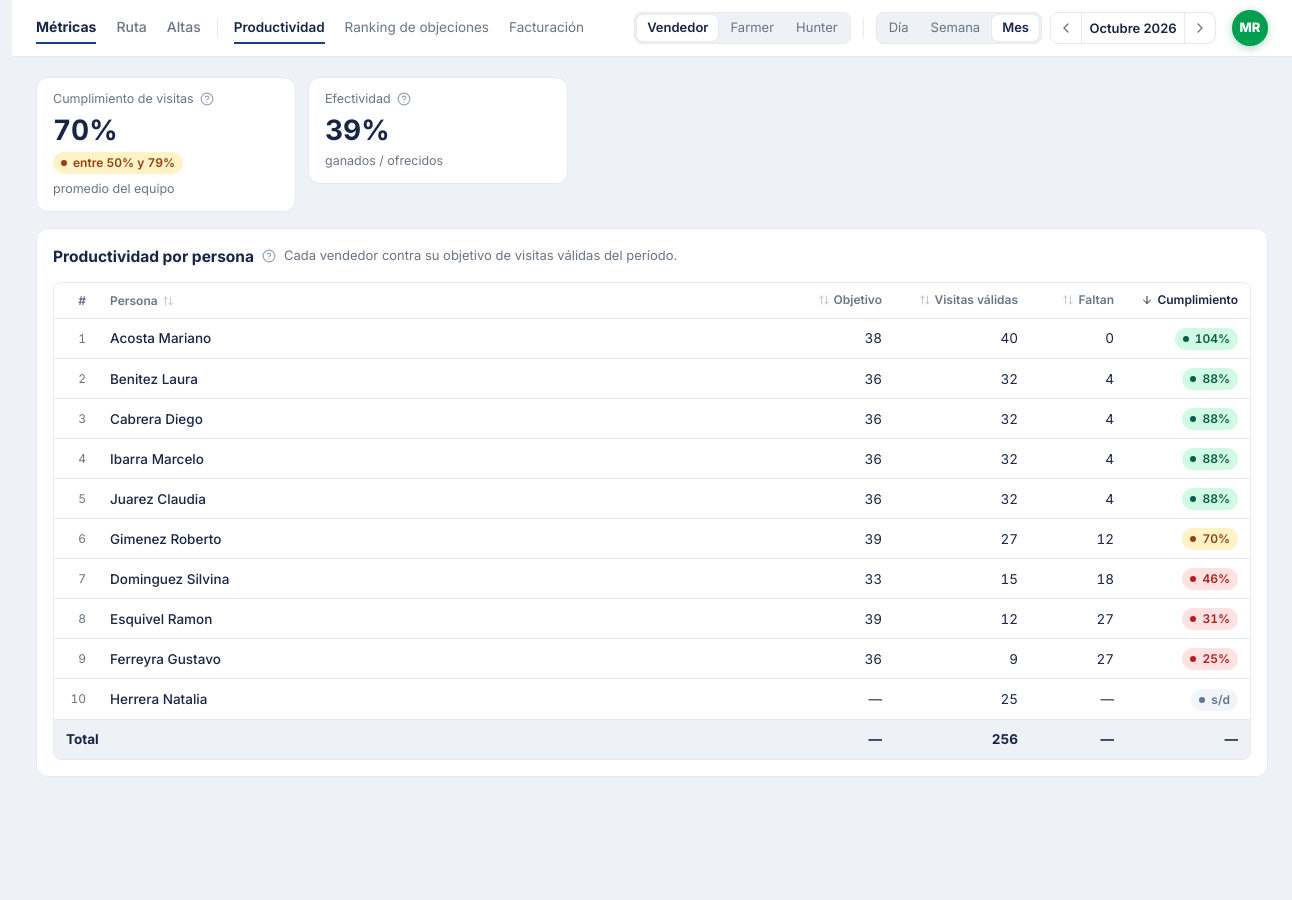
Test case: Productividad con el estándar UI › la vista y el tipo quedan en la URL; los valores por defecto no se escriben
Check: the row with test id "fila-productividad-V1" is shown, box [54,319,1250,359]
Step 1. Click the button "Hunter" → (817,28), box [786,15,848,41]
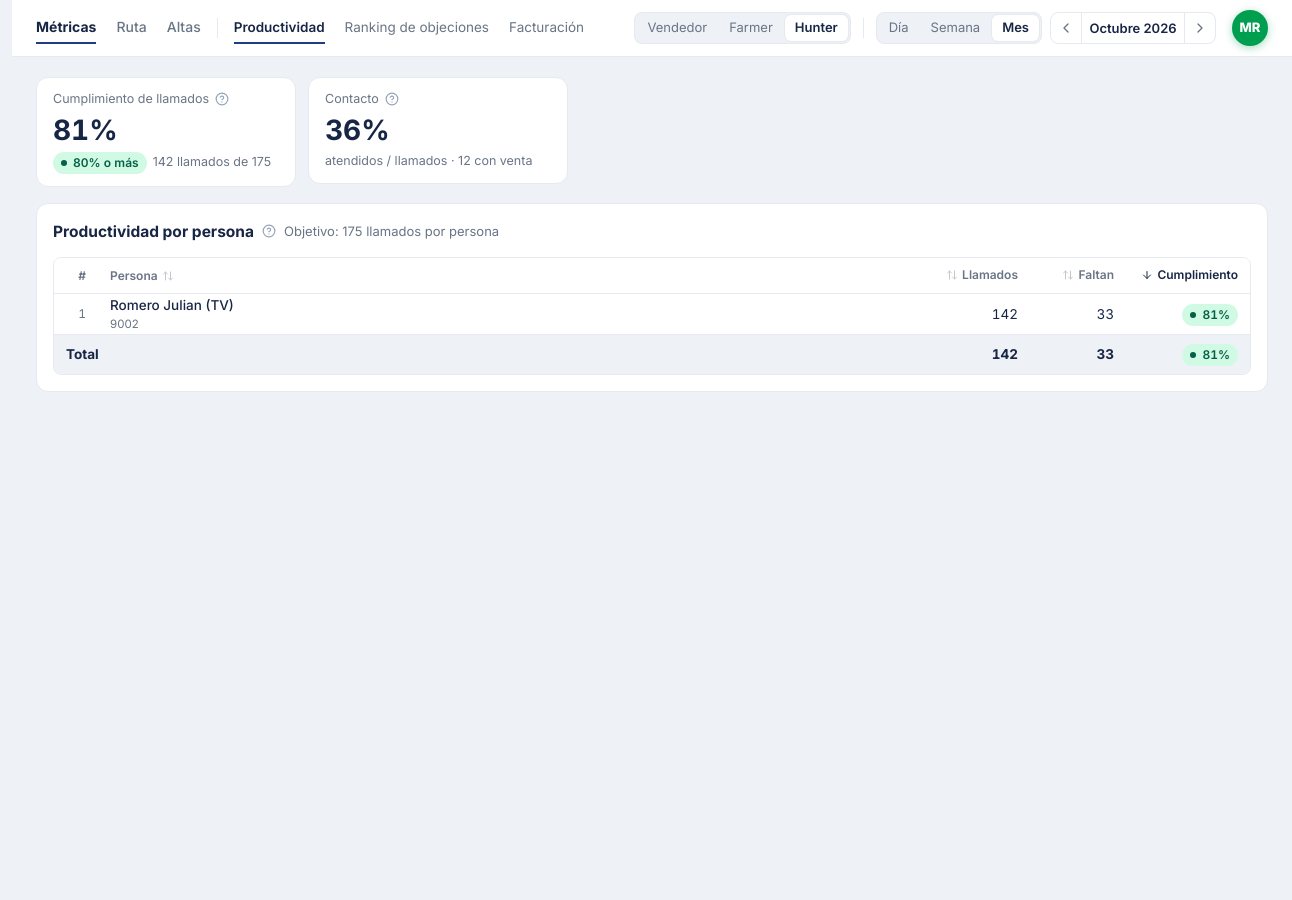
Step 2. Click the button "Ranking de objeciones" → (417,28), box [345,12,489,44]
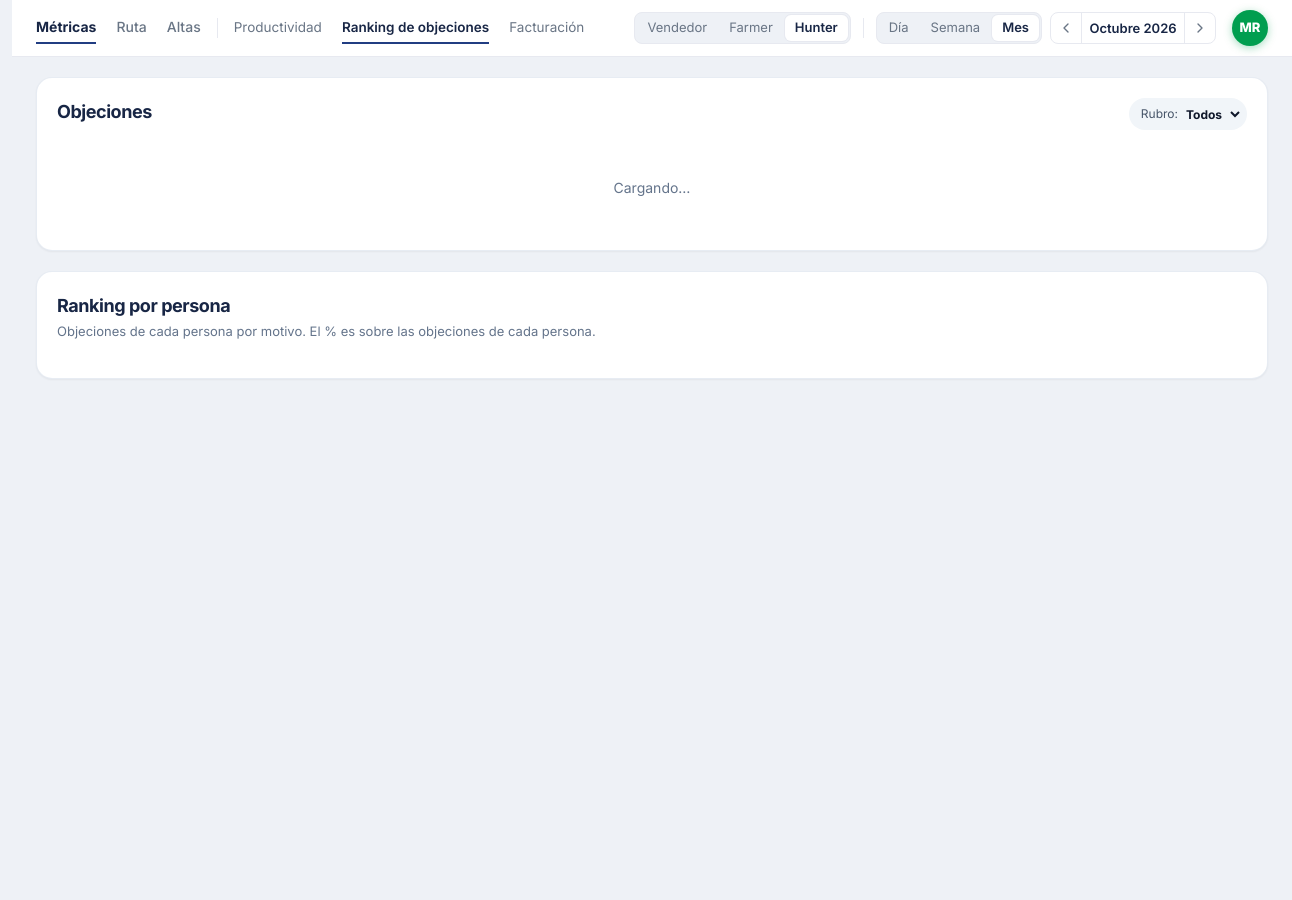
Step 3. Click the button "Productividad" → (278,28), box [234,12,322,44]
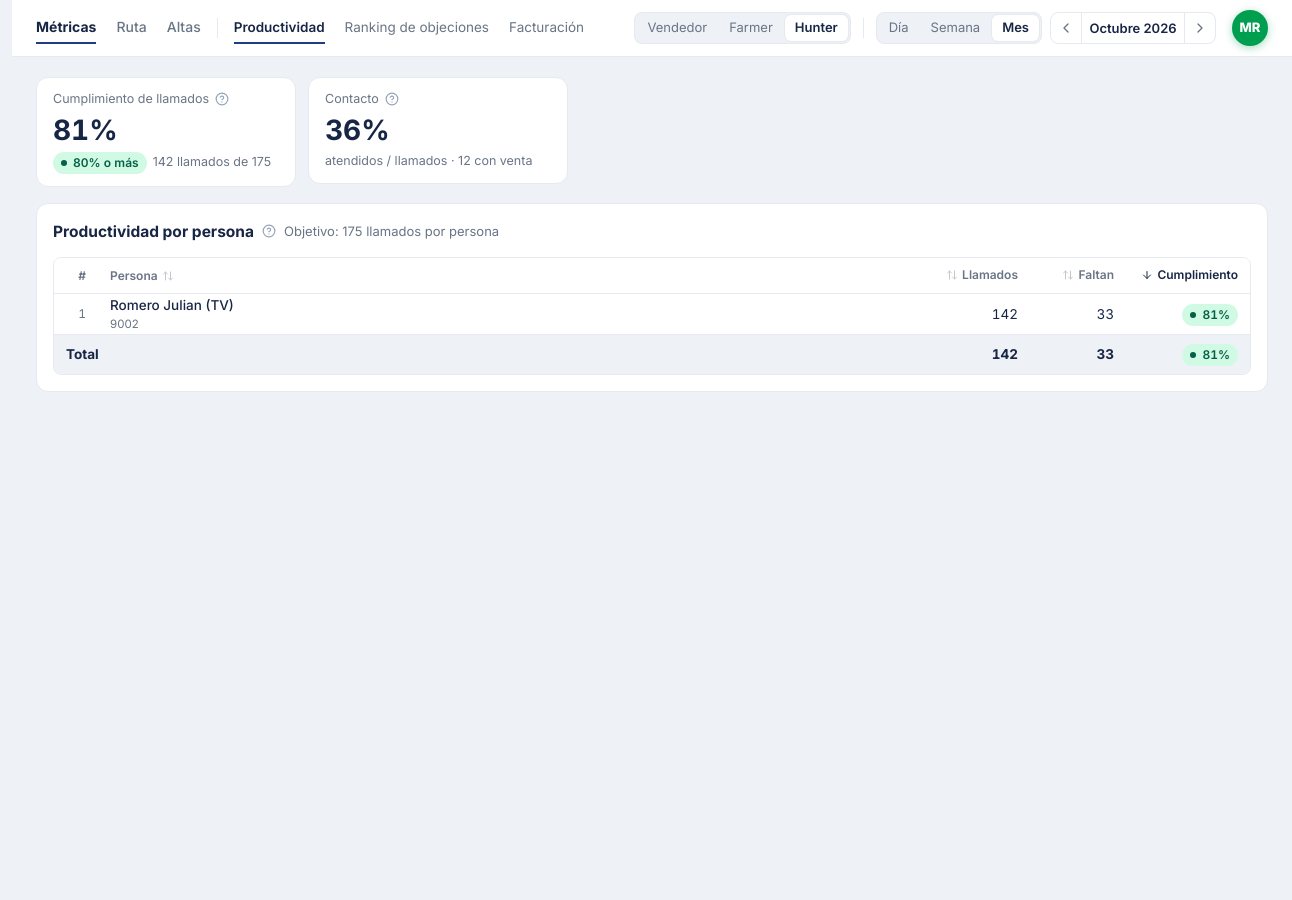
Step 4. Click the button "Vendedor" → (677,28), box [637,15,717,41]
(page scrolled)
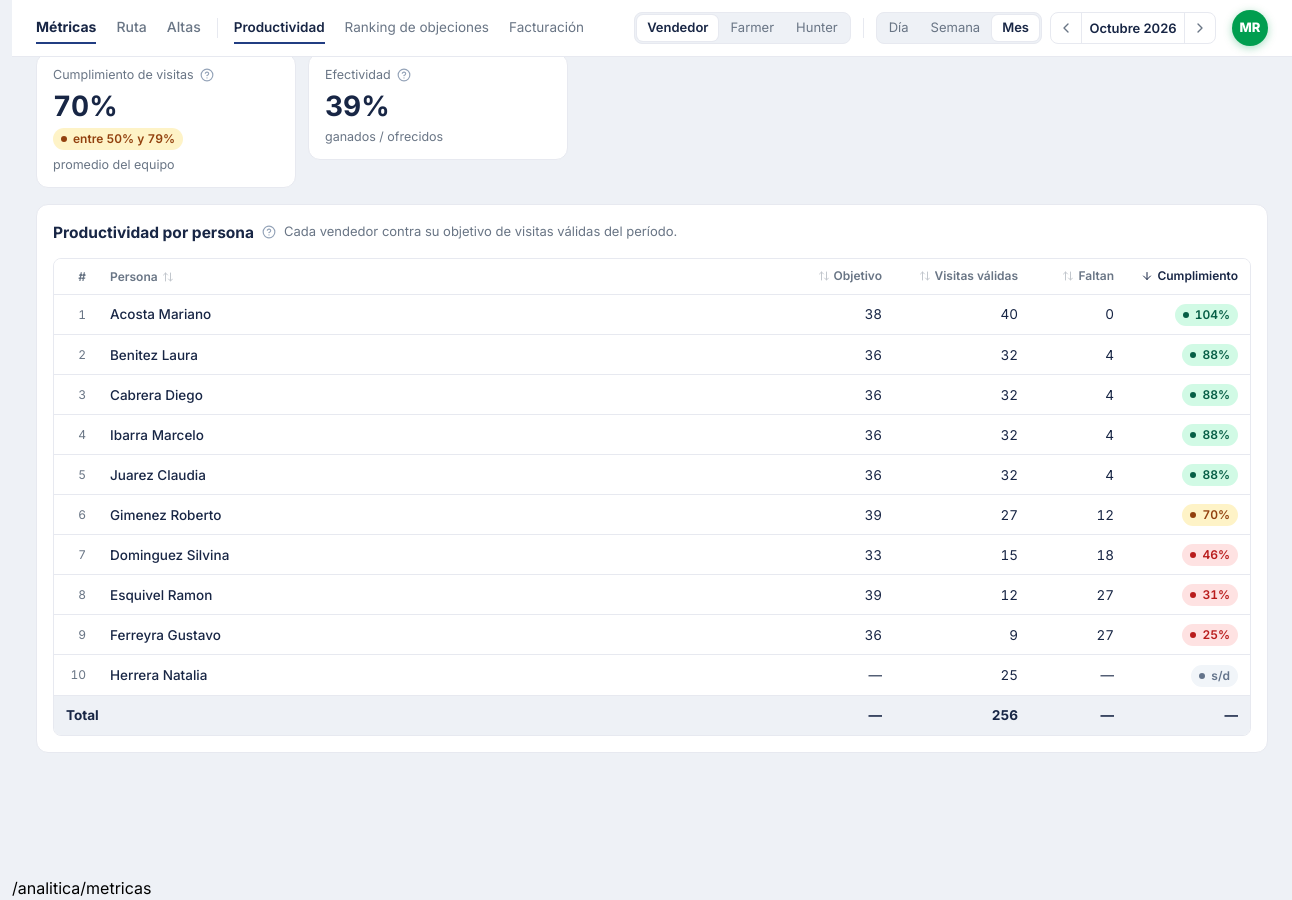
Check: the text with test id "ubicacion" reads "/analitica/metricas", box [12,878,152,898]
